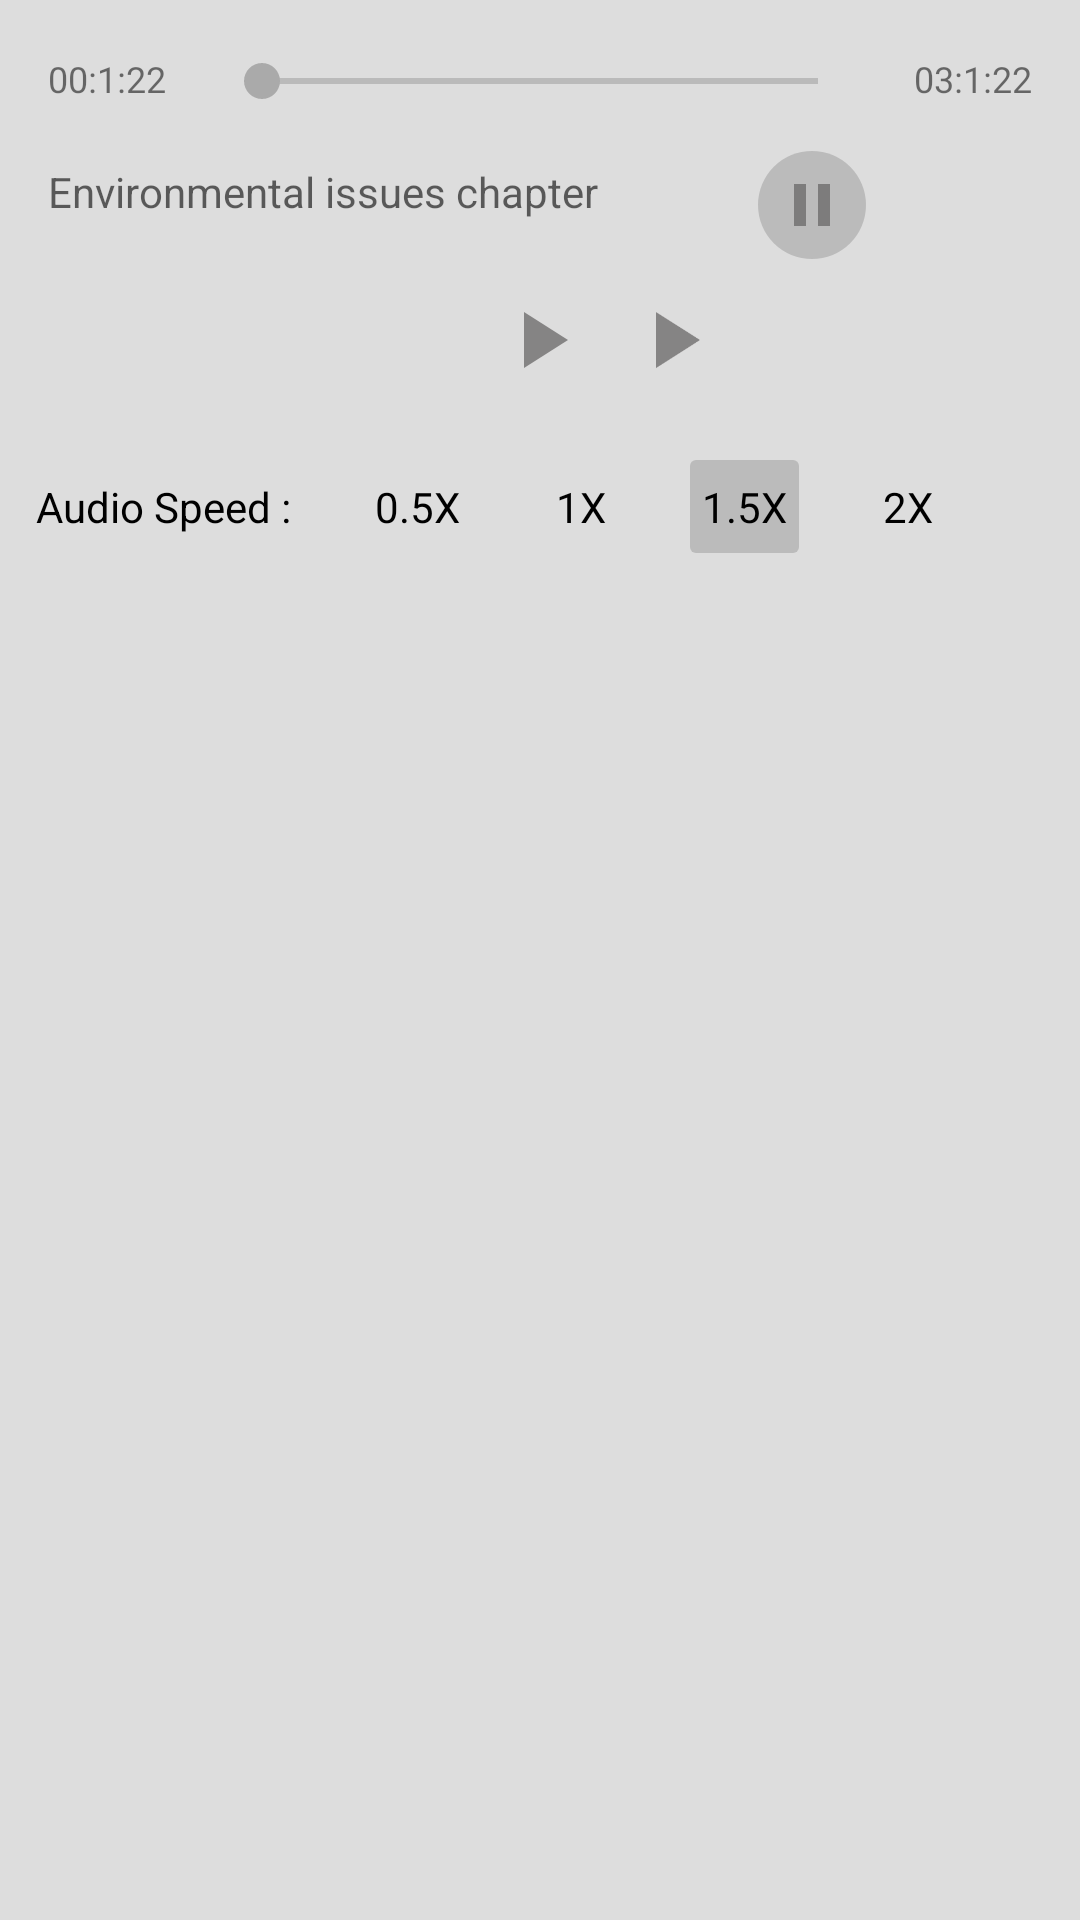

Icon click points for this 1080 × 1920 phone screenshot, format [x,y]:
pause: [812,205]
play arrow: [546,340], [677,340]
